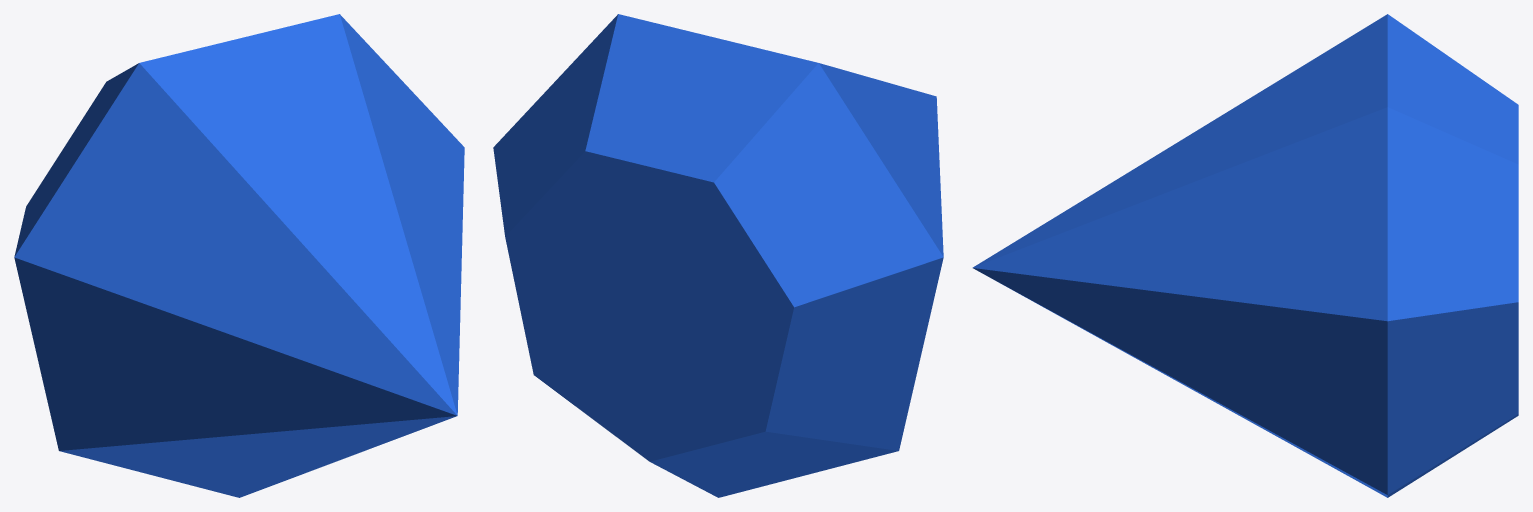
The model's file is Crystal.fbx.
3 renders of one model, left to right at view 1: azimuth 30°, elevation 25°; view 2: azimuth 150°, elevation 25°; view 3: azimuth 270°, elevation 25°, orthographic. The views are drawn at different scales.
Visible parts, largest first — view 1: Crystal; view 2: Crystal; view 3: Crystal.
Part boxes in pixels (box(x1,y1,x2,y2)): Crystal: box(14, 14, 464, 497); Crystal: box(493, 14, 943, 497); Crystal: box(972, 14, 1518, 497).
Bounding box in the file's own units: 1.95 × 1.9 × 2.15.
